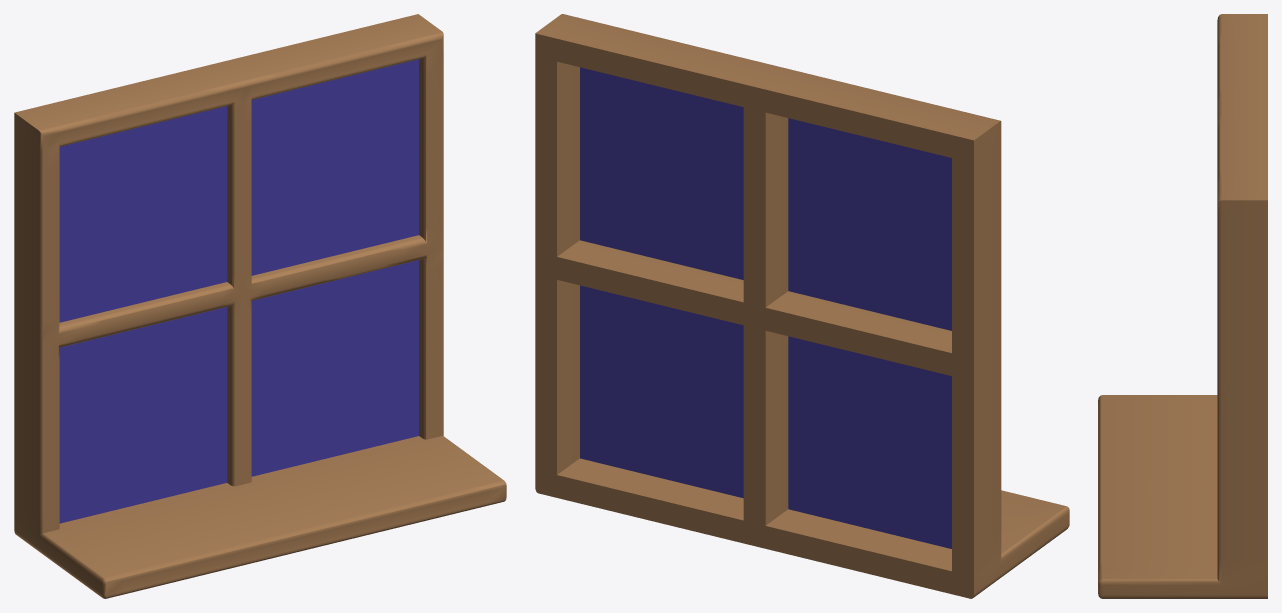
Rendered from window.fbx.
The picture shows the model from 3 angles, left to right: view 1: azimuth 30°, elevation 25°; view 2: azimuth 150°, elevation 25°; view 3: azimuth 270°, elevation 25°; orthographic projection. The views are drawn at different scales.
Parts seen in each view (by area): view 1: pCube1.001; view 2: pCube1.001; view 3: pCube1.001.
Boxes of the visible parts, left/top/right/bottom form: pCube1.001: left=14, top=14, right=506, bottom=598; pCube1.001: left=535, top=14, right=1069, bottom=598; pCube1.001: left=1098, top=14, right=1267, bottom=598.
Bounding box in the file's own units: 265 × 265 × 102.
